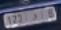1: (6, 15, 11, 27)
2: (12, 13, 17, 25)
3: (17, 13, 22, 24)
8: (48, 8, 54, 17)
waw: (31, 13, 38, 21)
